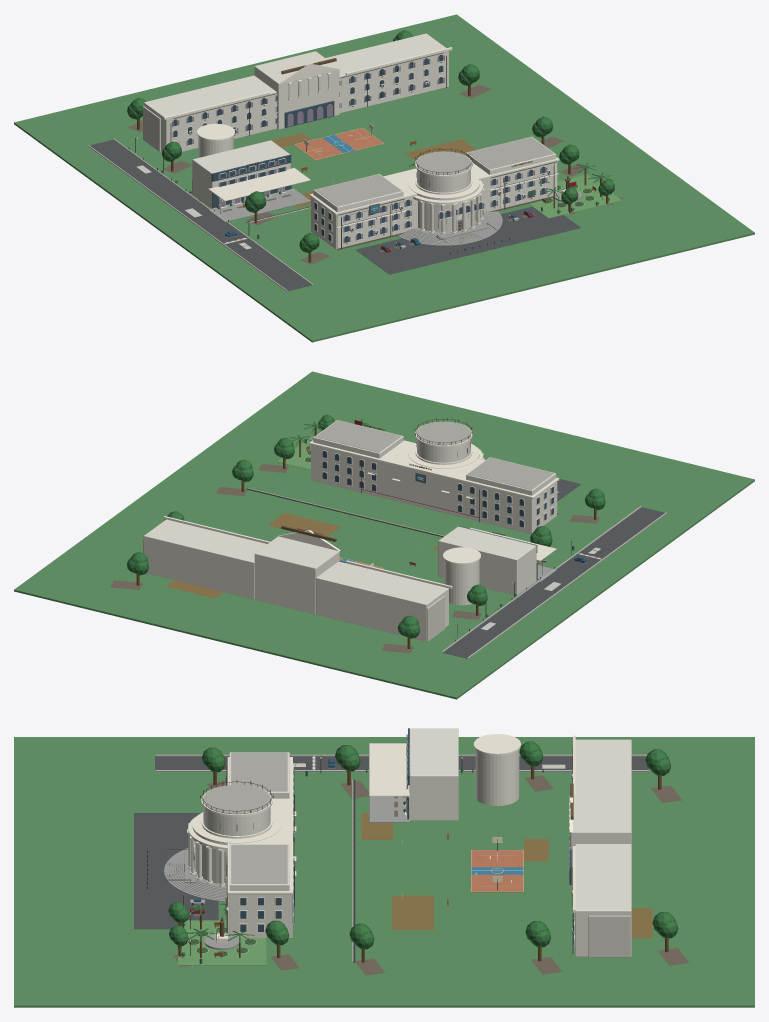
The model's file is la-martiniere-school.glb.
The picture shows the model from 3 angles, top to bottom: view 1: azimuth 30°, elevation 25°; view 2: azimuth 150°, elevation 25°; view 3: azimuth 270°, elevation 25°; orthographic projection. The views are drawn at different scales.
Parts seen in each view (by area): view 1: Campus_Ground, WEB_Heritage_Off_White, WEB_Warm_Limestone_Trim, WEB_Campus_Asphalt, WEB_Shadowed_Blue_Glass, WEB_Weathered_Roof_Concrete, WEB_Tree_Canopy, WEB_Weathered_Stair_Stone, WEB_Subtle_Weathering, WEB_Muted_Lavender_Grey, WEB_Dark_Campus_Metal, WEB_Formal_Garden_Green (+4 smaller); view 2: Campus_Ground, WEB_Heritage_Off_White, WEB_Warm_Limestone_Trim, WEB_Campus_Asphalt, WEB_Weathered_Roof_Concrete, WEB_Tree_Canopy, WEB_Shadowed_Blue_Glass, WEB_Subtle_Weathering, WEB_Worn_Field_Patch, WEB_Road_Curb_Stone, WEB_Aged_Plaster_Variation, WEB_Dark_Campus_Metal; view 3: Campus_Ground, WEB_Heritage_Off_White, WEB_Campus_Asphalt, WEB_Warm_Limestone_Trim, WEB_Weathered_Roof_Concrete, WEB_Tree_Canopy, WEB_Worn_Field_Patch, WEB_Weathered_Stair_Stone, WEB_Subtle_Weathering, WEB_Formal_Garden_Green, WEB_Aged_Plaster_Variation, Basketball_Court (+5 smaller).
Boxes of the visible parts, x1,y1,x2,y2 form: Campus_Ground: (14,14,754,342); WEB_Heritage_Off_White: (143,33,557,249); WEB_Warm_Limestone_Trim: (163,47,565,250); WEB_Campus_Asphalt: (90,139,580,291); WEB_Shadowed_Blue_Glass: (173,54,545,249); WEB_Weathered_Roof_Concrete: (315,137,554,206); WEB_Tree_Canopy: (127,30,614,252); WEB_Weathered_Stair_Stone: (161,172,609,245); WEB_Subtle_Weathering: (128,52,623,264); WEB_Muted_Lavender_Grey: (172,55,547,243); WEB_Dark_Campus_Metal: (128,56,602,254); WEB_Formal_Garden_Green: (529,174,622,218); Campus_Ground: (14,371,754,699); WEB_Heritage_Off_White: (143,420,557,641); WEB_Warm_Limestone_Trim: (163,422,559,588); WEB_Campus_Asphalt: (443,479,664,658); WEB_Weathered_Roof_Concrete: (315,420,554,489); WEB_Tree_Canopy: (127,414,605,638); WEB_Shadowed_Blue_Glass: (322,442,583,579); WEB_Subtle_Weathering: (111,436,599,653); WEB_Worn_Field_Patch: (166,513,438,598); WEB_Road_Curb_Stone: (247,452,666,658); WEB_Aged_Plaster_Variation: (143,538,600,641); WEB_Dark_Campus_Metal: (246,419,610,641); Campus_Ground: (14,737,754,1007); WEB_Heritage_Off_White: (188,728,631,956); WEB_Campus_Asphalt: (134,756,648,929); WEB_Warm_Limestone_Trim: (187,734,575,946); WEB_Weathered_Roof_Concrete: (203,752,287,883); WEB_Tree_Canopy: (168,741,678,956); WEB_Worn_Field_Patch: (361,813,652,938); WEB_Weathered_Stair_Stone: (164,771,463,958); WEB_Subtle_Weathering: (167,761,689,975); WEB_Formal_Garden_Green: (178,920,266,965); WEB_Aged_Plaster_Variation: (225,763,630,957); Basketball_Court: (471,850,523,892).
Bounding box in the file's own units: 180 × 24.37 × 210.
